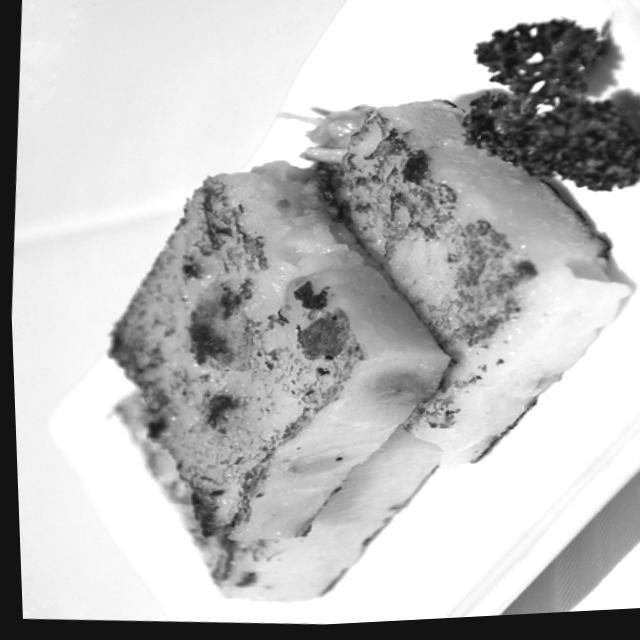蛋糕甜品: (48, 29, 640, 638)
